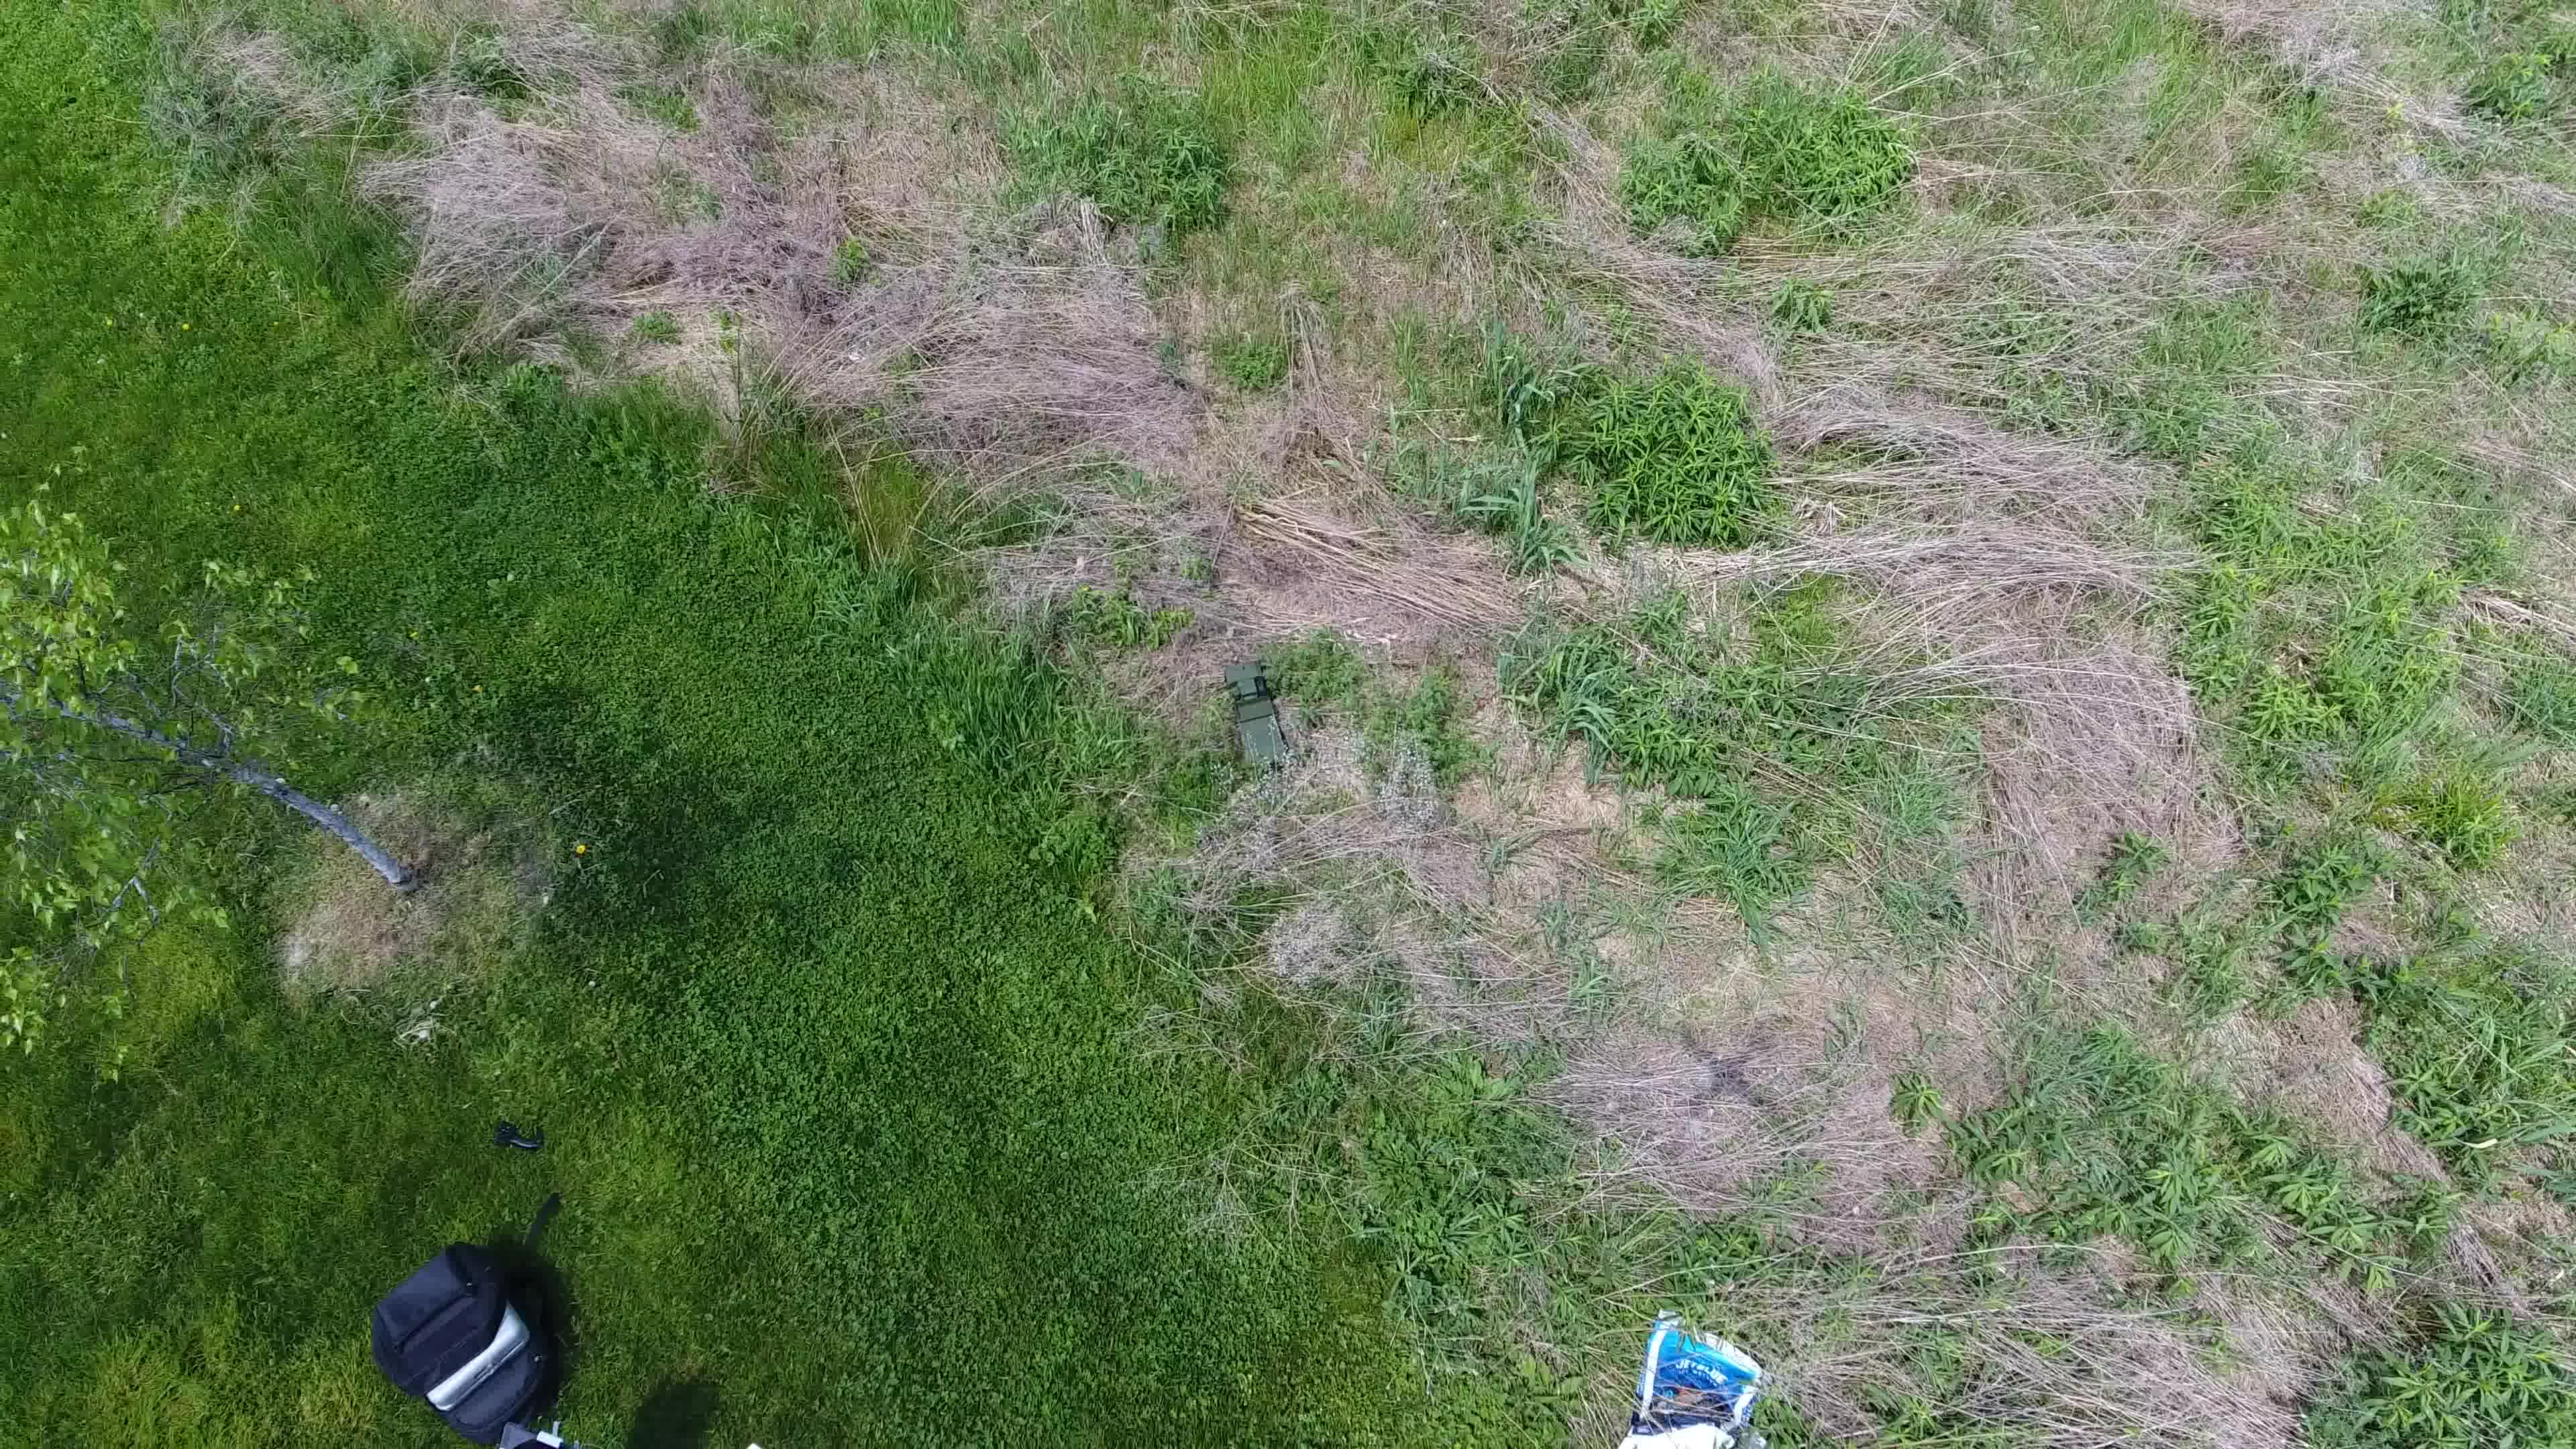transporter9: (1223, 658, 1295, 778)
